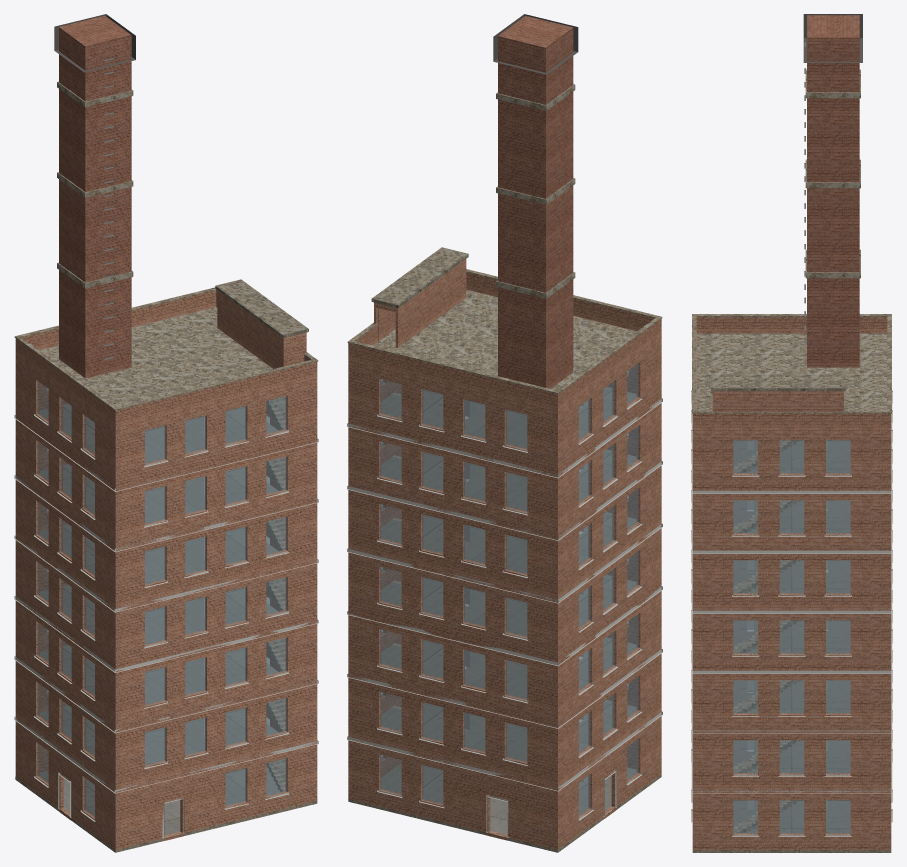
The model's file is ew-boiler-tower.glass-v3.lod0.glb.
3 views of the same model, side by side, from view 1: azimuth 30°, elevation 25°; view 2: azimuth 150°, elevation 25°; view 3: azimuth 270°, elevation 25° (orthographic). The views are drawn at different scales.
Visible parts, largest first — view 1: ew-boiler-tower; view 2: ew-boiler-tower; view 3: ew-boiler-tower.
Boxes of the visible parts, x1,y1,x2,y2 form: ew-boiler-tower: (14, 14, 318, 852); ew-boiler-tower: (347, 14, 662, 852); ew-boiler-tower: (691, 14, 892, 852).
Bounding box in the file's own units: 14.2 × 50.23 × 12.2.
Materials: 5 (3 with a texture image).
